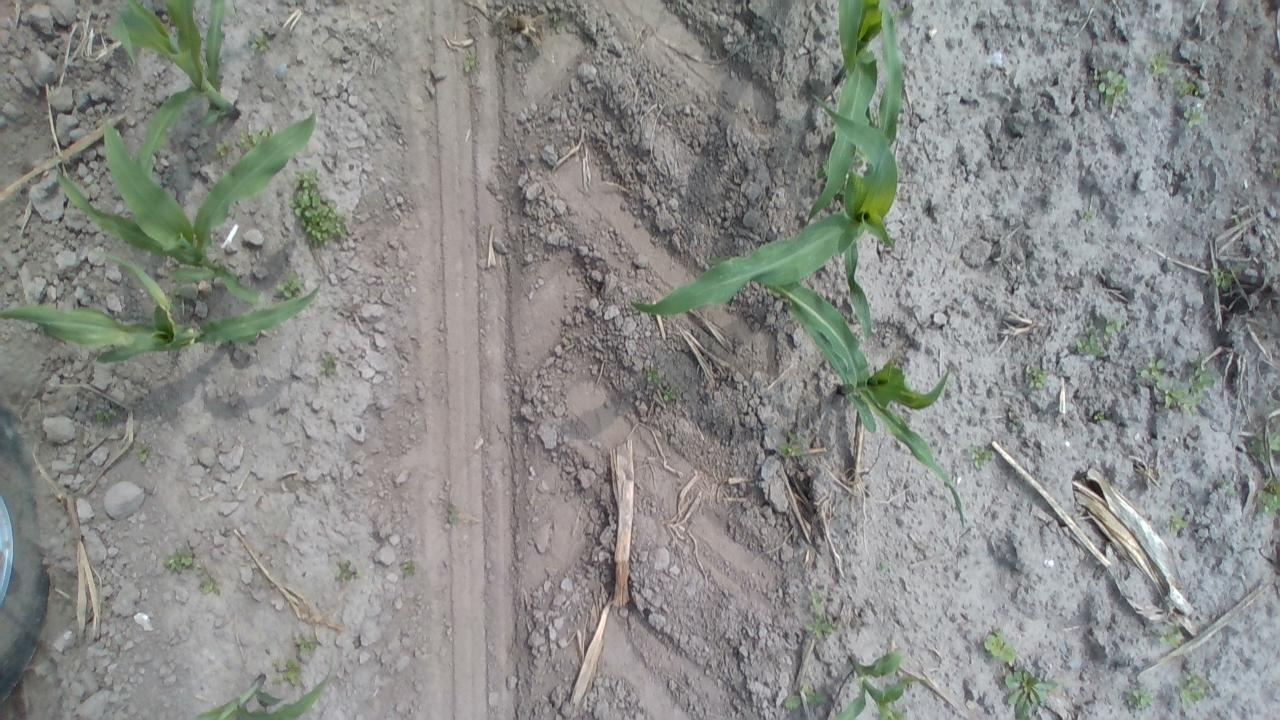Maize: (621, 0, 936, 340), (740, 259, 969, 532), (48, 110, 334, 312), (1, 250, 329, 366), (802, 1, 924, 231), (98, 0, 247, 182), (166, 650, 344, 720), (803, 637, 923, 720)
Weeds: (288, 168, 354, 256), (998, 663, 1062, 720), (798, 586, 834, 644), (778, 676, 828, 716), (1096, 66, 1136, 111), (1178, 668, 1216, 711), (1156, 382, 1202, 416), (1246, 426, 1280, 471), (1186, 352, 1220, 395), (160, 544, 202, 578), (980, 630, 1019, 666), (1070, 323, 1107, 360), (1253, 470, 1280, 520), (240, 122, 274, 156), (1156, 619, 1187, 653), (1134, 352, 1165, 386), (275, 265, 305, 299), (1204, 264, 1238, 294), (1123, 684, 1156, 714), (278, 658, 306, 692), (244, 27, 278, 55), (1024, 359, 1050, 395), (774, 428, 804, 459), (965, 443, 999, 470), (194, 569, 224, 599), (438, 500, 466, 531), (210, 138, 242, 165), (1176, 104, 1206, 132), (330, 557, 360, 584), (1143, 49, 1170, 79), (92, 402, 125, 426), (1099, 313, 1126, 342), (1216, 473, 1242, 503), (291, 632, 320, 658), (1167, 512, 1192, 542), (1168, 76, 1194, 100), (318, 352, 341, 378), (135, 442, 155, 467), (1076, 204, 1098, 226), (398, 560, 420, 581), (463, 54, 482, 78), (643, 366, 665, 386), (1088, 404, 1106, 427), (546, 10, 566, 28), (662, 387, 681, 405), (1269, 164, 1280, 185)
